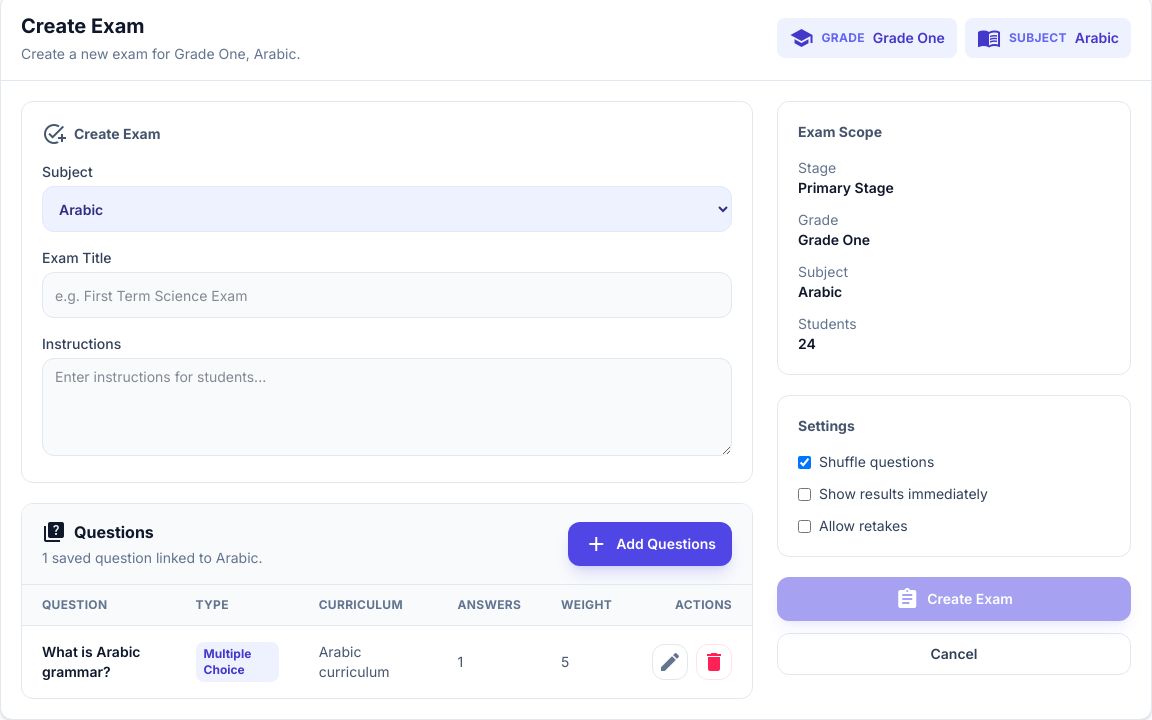
Test: TenantExamsBasicEducationExamCreateComponent › opens question details in a drawer when clicking a question row
(page scrolled)
Click the button that starts with "What is Arabic grammar?". click: (387, 662)
box: top-left (22, 626), bottom-right (752, 698)
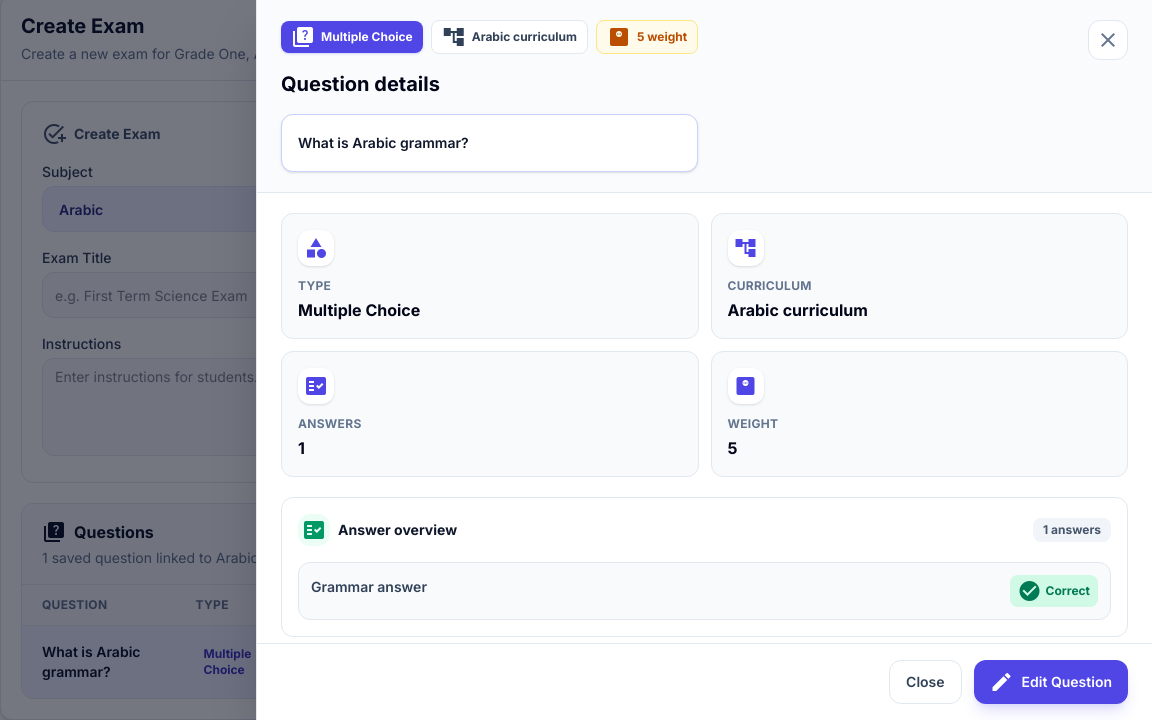
Now the dialog is shown
Now the text "Question details" is shown, box top-left (281, 72), bottom-right (440, 96)
Now the text "Answer overview" is shown, box top-left (298, 514), bottom-right (457, 546)
Click the button named "Close question details". click: (1108, 40)
box: top-left (1088, 20), bottom-right (1128, 60)
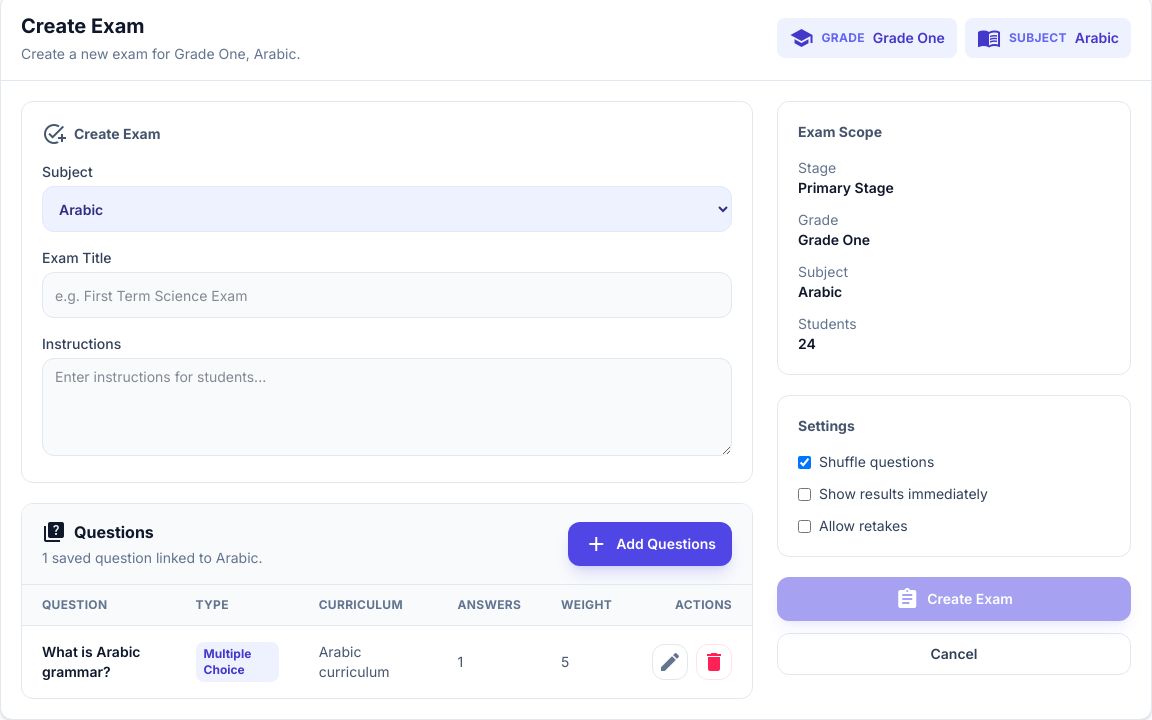
Now the dialog is gone
